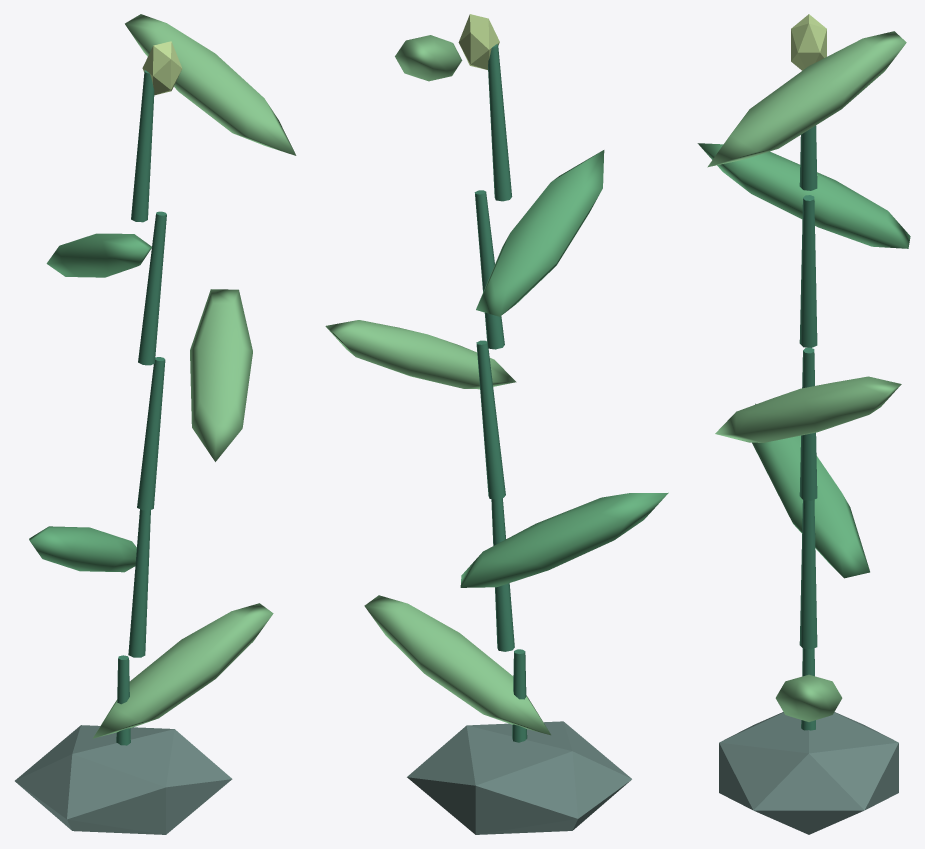
The model's file is ocean-scenery-24.glb.
3 views of the same model, side by side, from view 1: azimuth 30°, elevation 25°; view 2: azimuth 150°, elevation 25°; view 3: azimuth 270°, elevation 25° (orthographic). The views are drawn at different scales.
Visible parts, largest first — view 1: Swaying kelp frond; view 2: Swaying kelp frond; view 3: Swaying kelp frond.
Boxes of the visible parts, bbox=[...] form: Swaying kelp frond: bbox=[15, 14, 296, 834]; Swaying kelp frond: bbox=[325, 14, 668, 834]; Swaying kelp frond: bbox=[697, 14, 910, 834].
Bounding box in the file's own units: 1.25 × 3.38 × 0.8065.
